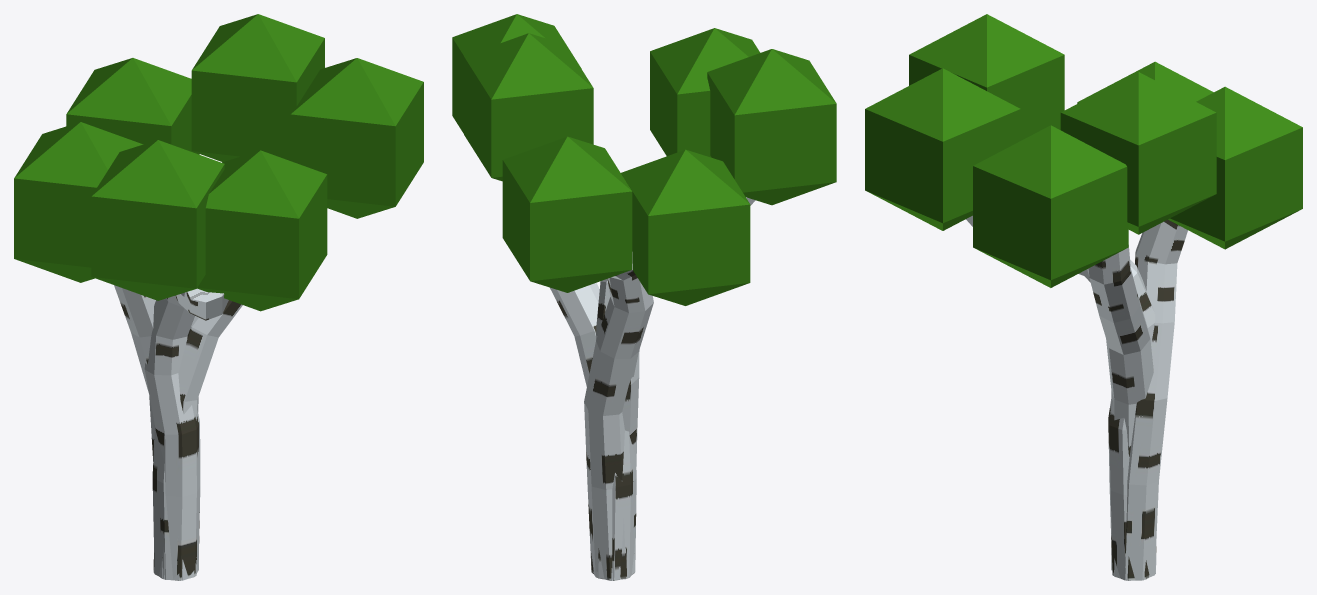
The model's file is Bouleau.fbx.
The picture shows the model from 3 angles, left to right: view 1: azimuth 30°, elevation 25°; view 2: azimuth 150°, elevation 25°; view 3: azimuth 270°, elevation 25°; orthographic projection. The views are drawn at different scales.
Visible parts, largest first — view 1: Bouleau; view 2: Bouleau; view 3: Bouleau.
Part boxes in pixels (left/top/right/bottom): Bouleau: left=14, top=14, right=423, bottom=580; Bouleau: left=452, top=14, right=836, bottom=580; Bouleau: left=865, top=14, right=1302, bottom=580.
Size of the model in its own units: 1886 by 2650 by 1943.
Materials: 2 (1 with a texture image).
